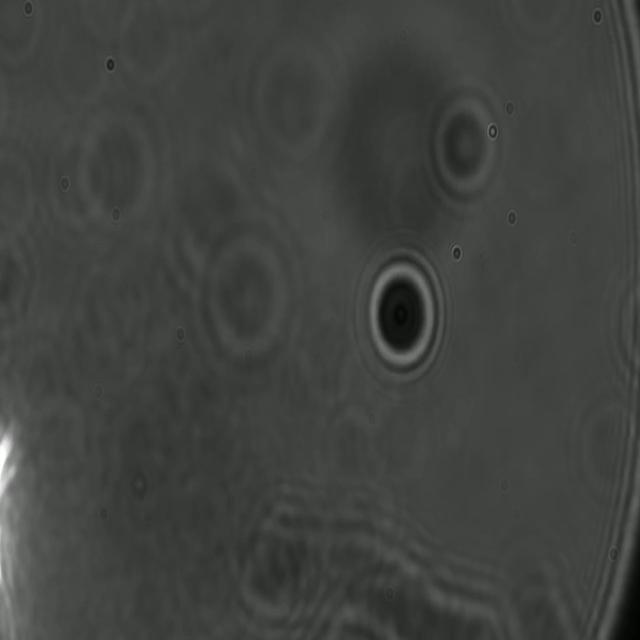DCELL: (363, 250, 446, 383)
